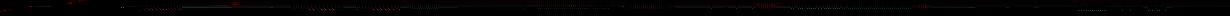Blue cone: (22, 7, 27, 8), (7, 9, 11, 10), (29, 6, 33, 7)
Orange: (753, 3, 782, 9), (228, 2, 243, 6)
Yellow cone: (913, 5, 931, 9)
